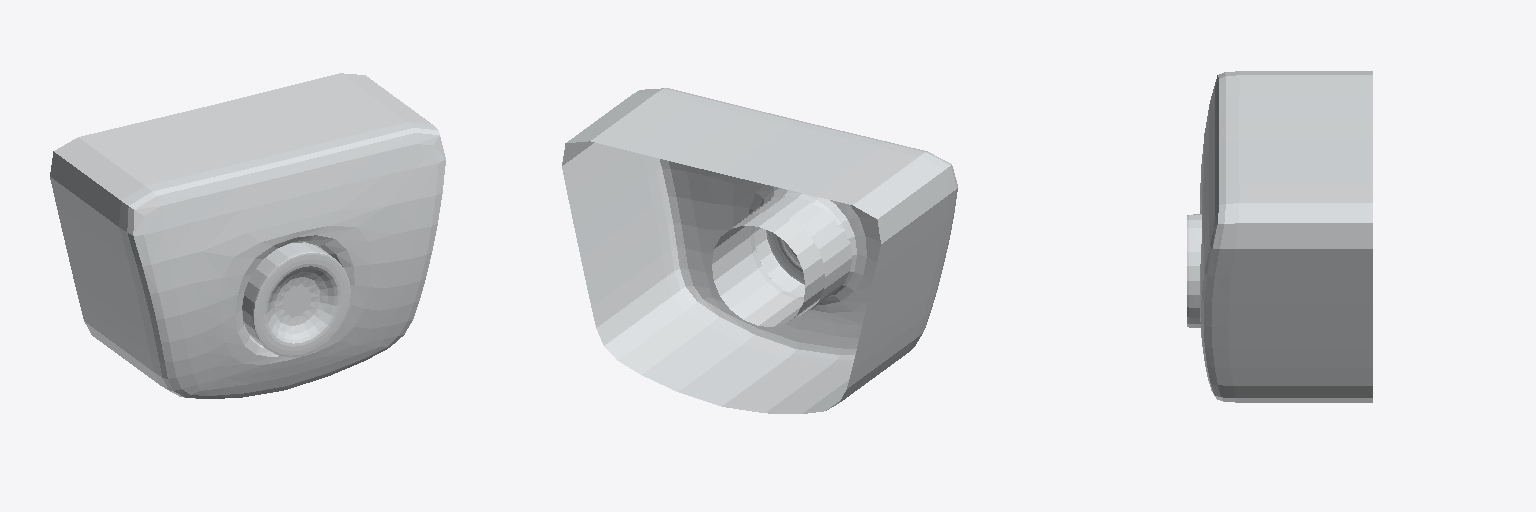
File: newjoystick-midpoly.obj
3 renders of one model, left to right at view 1: azimuth 30°, elevation 25°; view 2: azimuth 150°, elevation 25°; view 3: azimuth 270°, elevation 25°, orthographic.
Parts seen in each view (by area): view 1: control_ce, control_jo; view 2: control_ce, control_jo; view 3: control_ce, control_jo.
Boxes of the visible parts, x1,y1,x2,y2 form: control_ce: [50, 73, 445, 398]; control_jo: [242, 242, 350, 356]; control_ce: [562, 88, 957, 413]; control_jo: [739, 195, 852, 316]; control_ce: [1200, 71, 1372, 402]; control_jo: [1187, 214, 1201, 327].
Bounding box in the file's own units: 259 × 181 × 131.